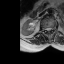CCS_normal: (47, 25, 49, 34)
LFS_normal: (52, 25, 54, 31)
LLS_normal: (49, 25, 52, 32)
RFS_stenosis: (43, 26, 45, 31)
RLS_normal: (45, 26, 47, 32)
